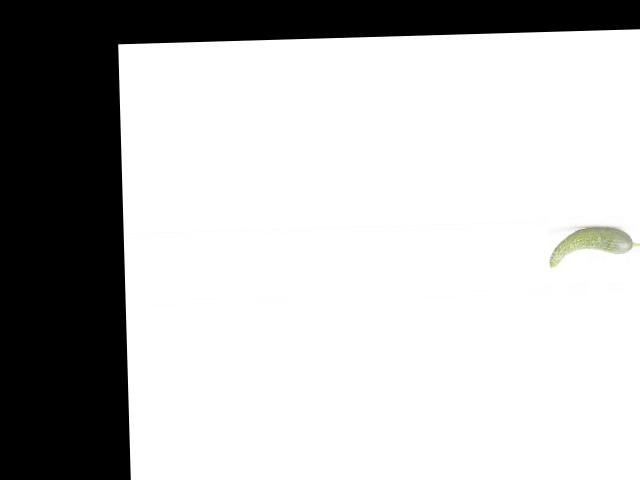cucumber: (549, 225, 640, 267)
